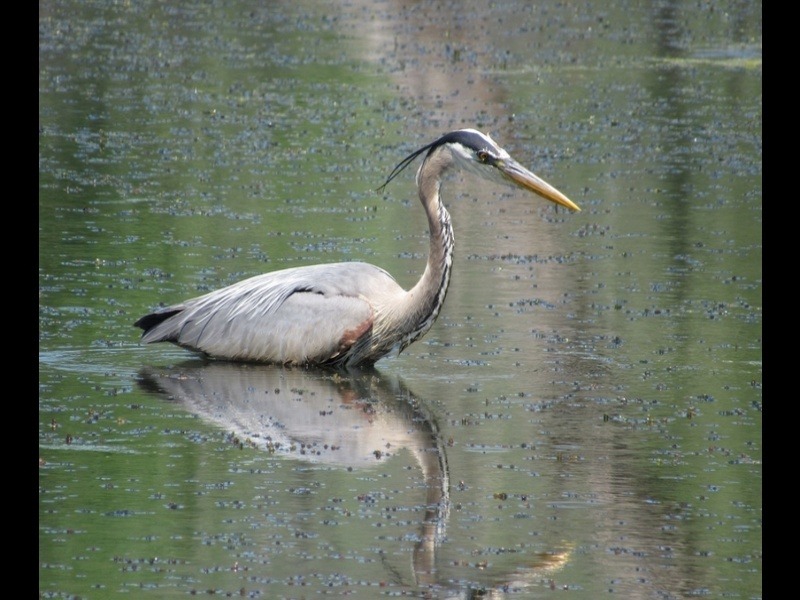heron: (133, 127, 583, 366)
